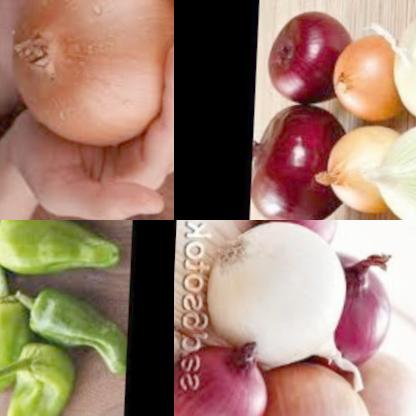hot pepper: (10, 275, 131, 376), (0, 220, 134, 279), (0, 336, 82, 416), (0, 259, 39, 402)
onion: (4, 0, 174, 153), (210, 220, 360, 375), (224, 339, 380, 416), (250, 104, 351, 220), (325, 246, 400, 369), (263, 9, 350, 110), (316, 124, 408, 217), (174, 340, 281, 416), (328, 30, 404, 122), (365, 118, 416, 220), (351, 347, 416, 416), (386, 1, 416, 123), (255, 220, 346, 244)
